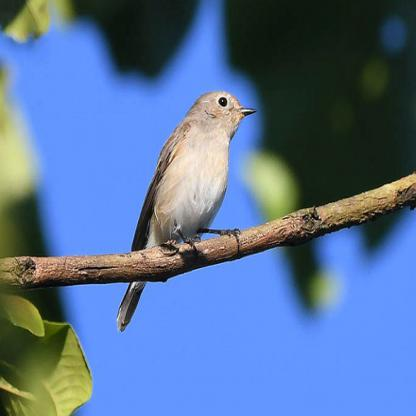Burung: (114, 95, 260, 328)
